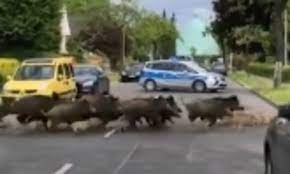boar: (121, 97, 183, 133), (44, 104, 103, 134), (182, 96, 235, 128)
